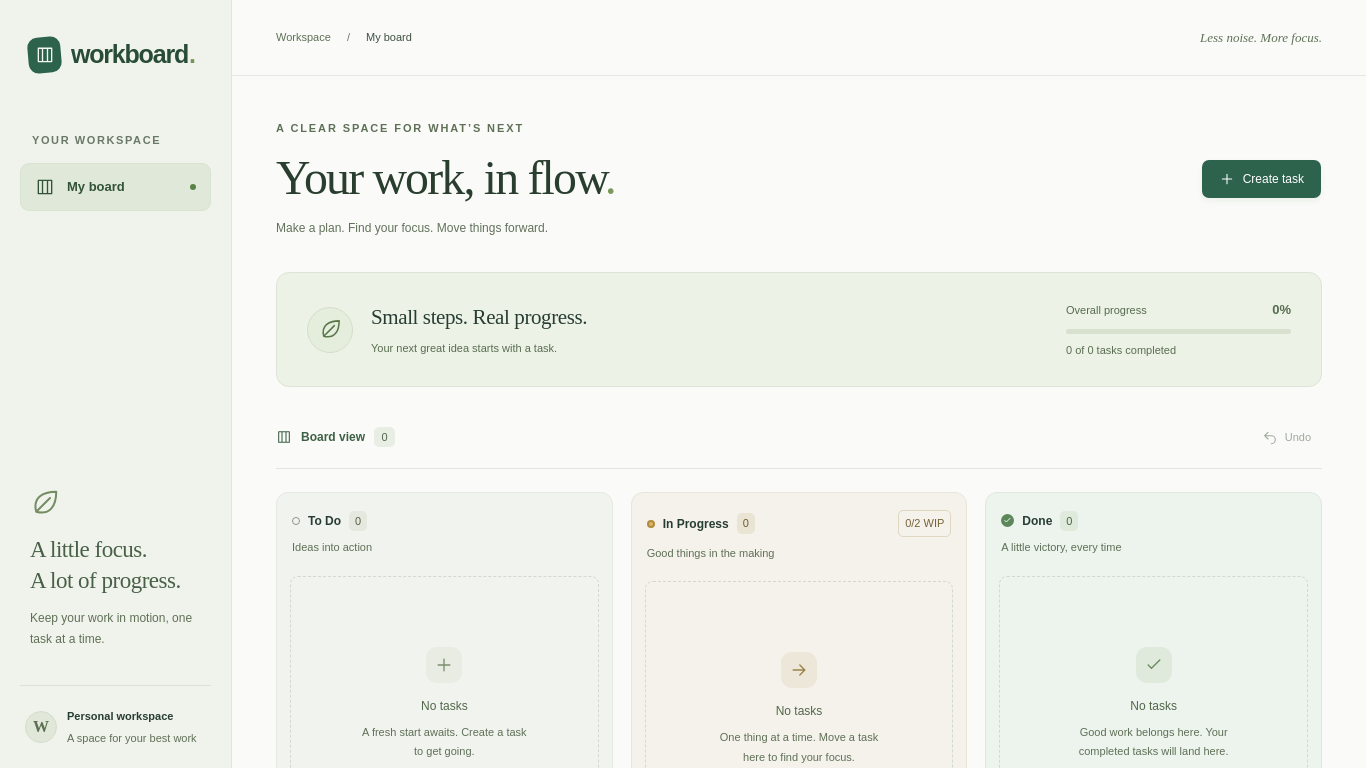
it: CreateTaskDialog › shows an alert and does not add a card when create cannot be saved
expect the heading "To Do" is shown: met, box [308,512,341,530]
Click the button "Create task" at (1261, 179), box [1201,159,1322,199]
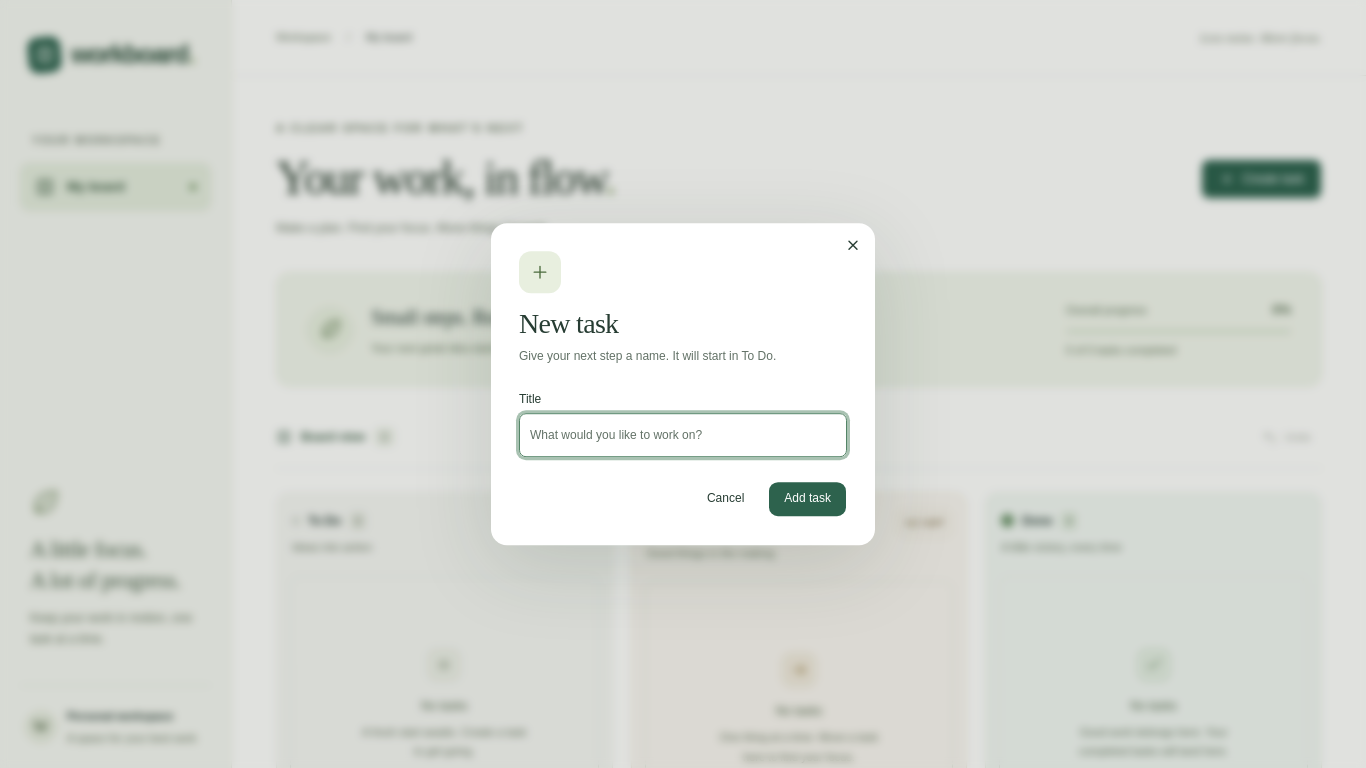
Type "Prepare the report" into the field labelled "Title" at (683, 435), box [519,413,847,457]
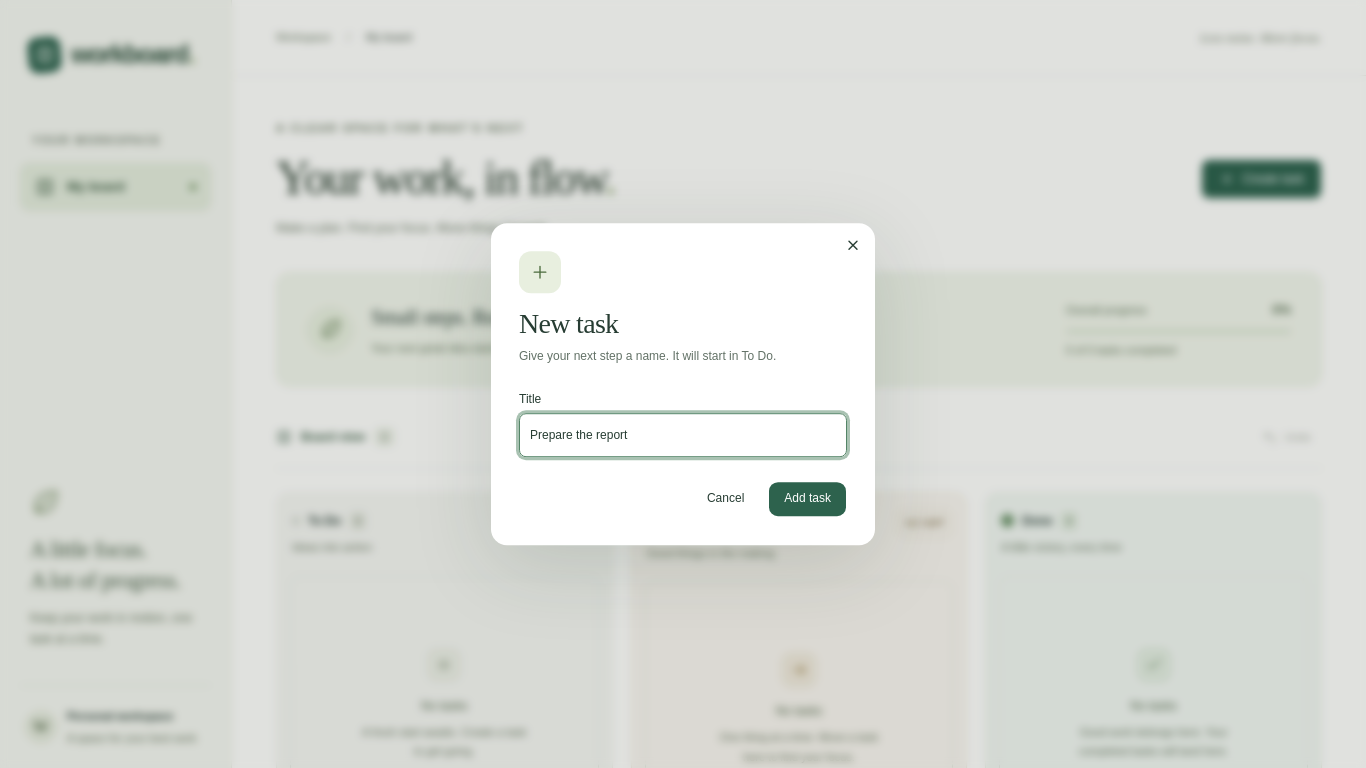
Click the button "Add task" at (808, 499), box [768,481,847,517]
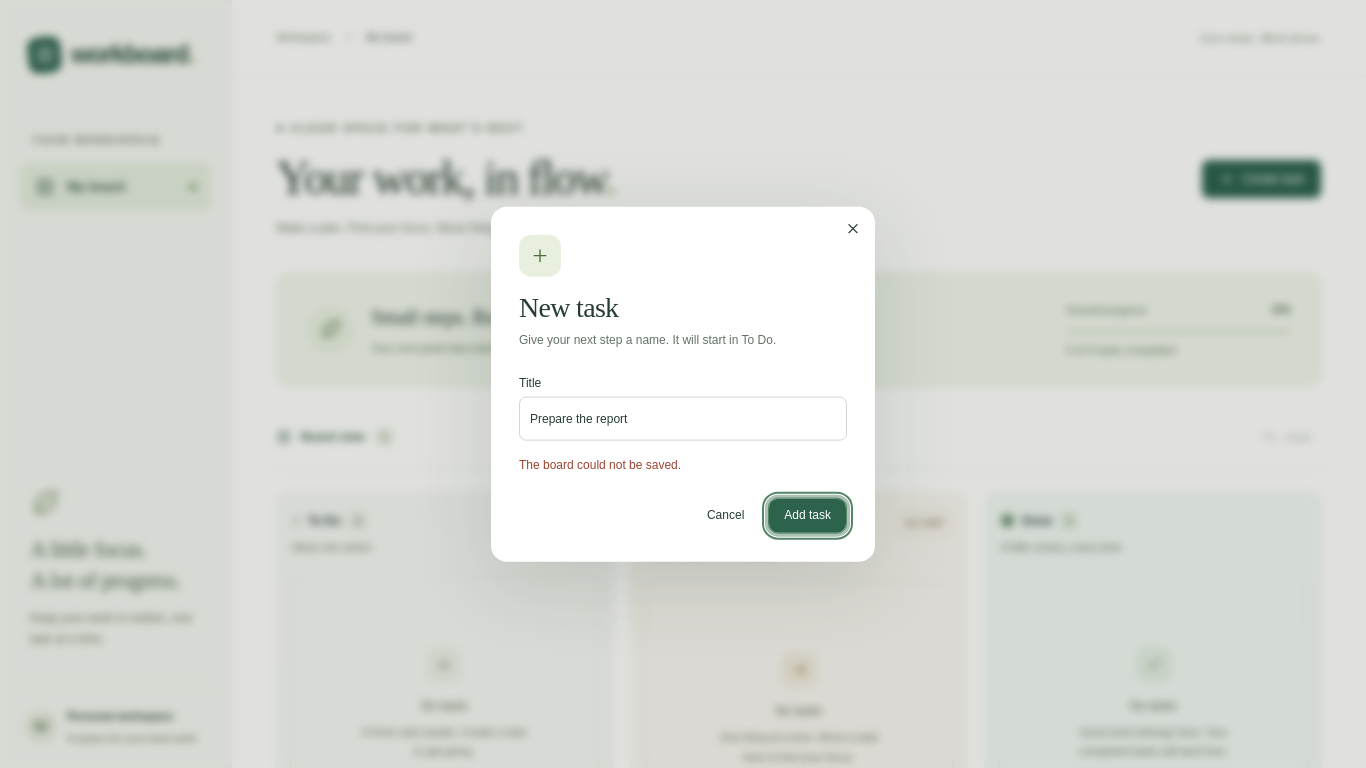
expect the message reads "The board could not be saved.": met, box [519,457,681,471]
